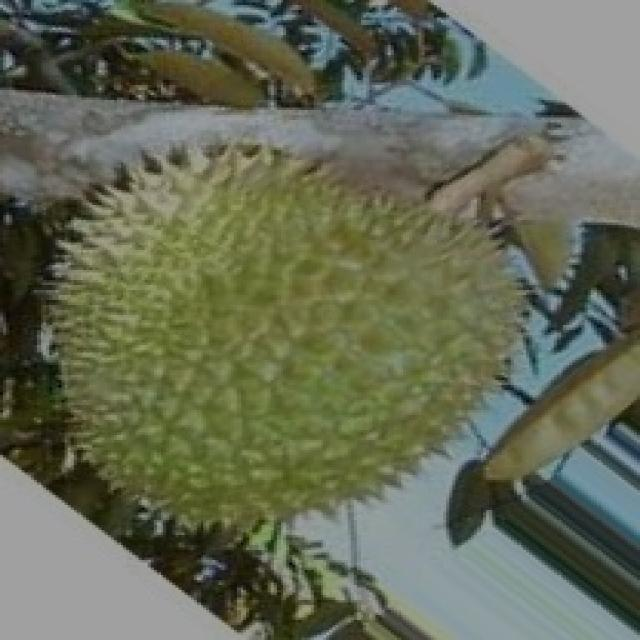fruit: (0, 160, 375, 635)
